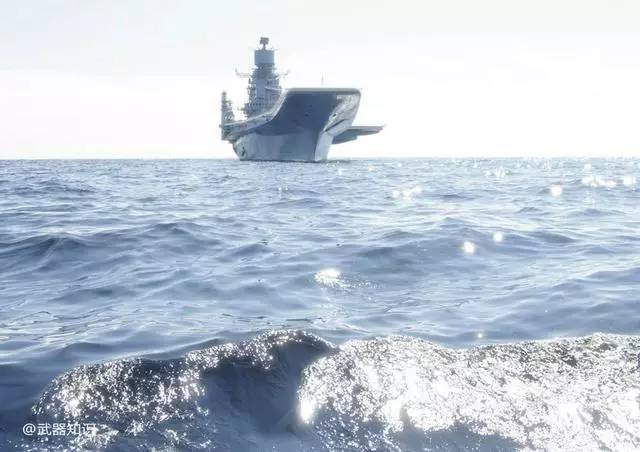warship: (209, 35, 376, 169)
